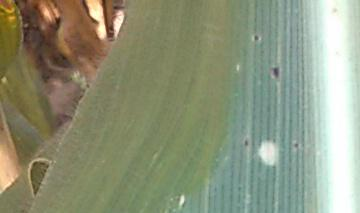tarspot: (271, 64, 280, 80), (252, 33, 260, 42), (292, 140, 300, 149), (242, 137, 249, 147), (331, 6, 338, 14)
